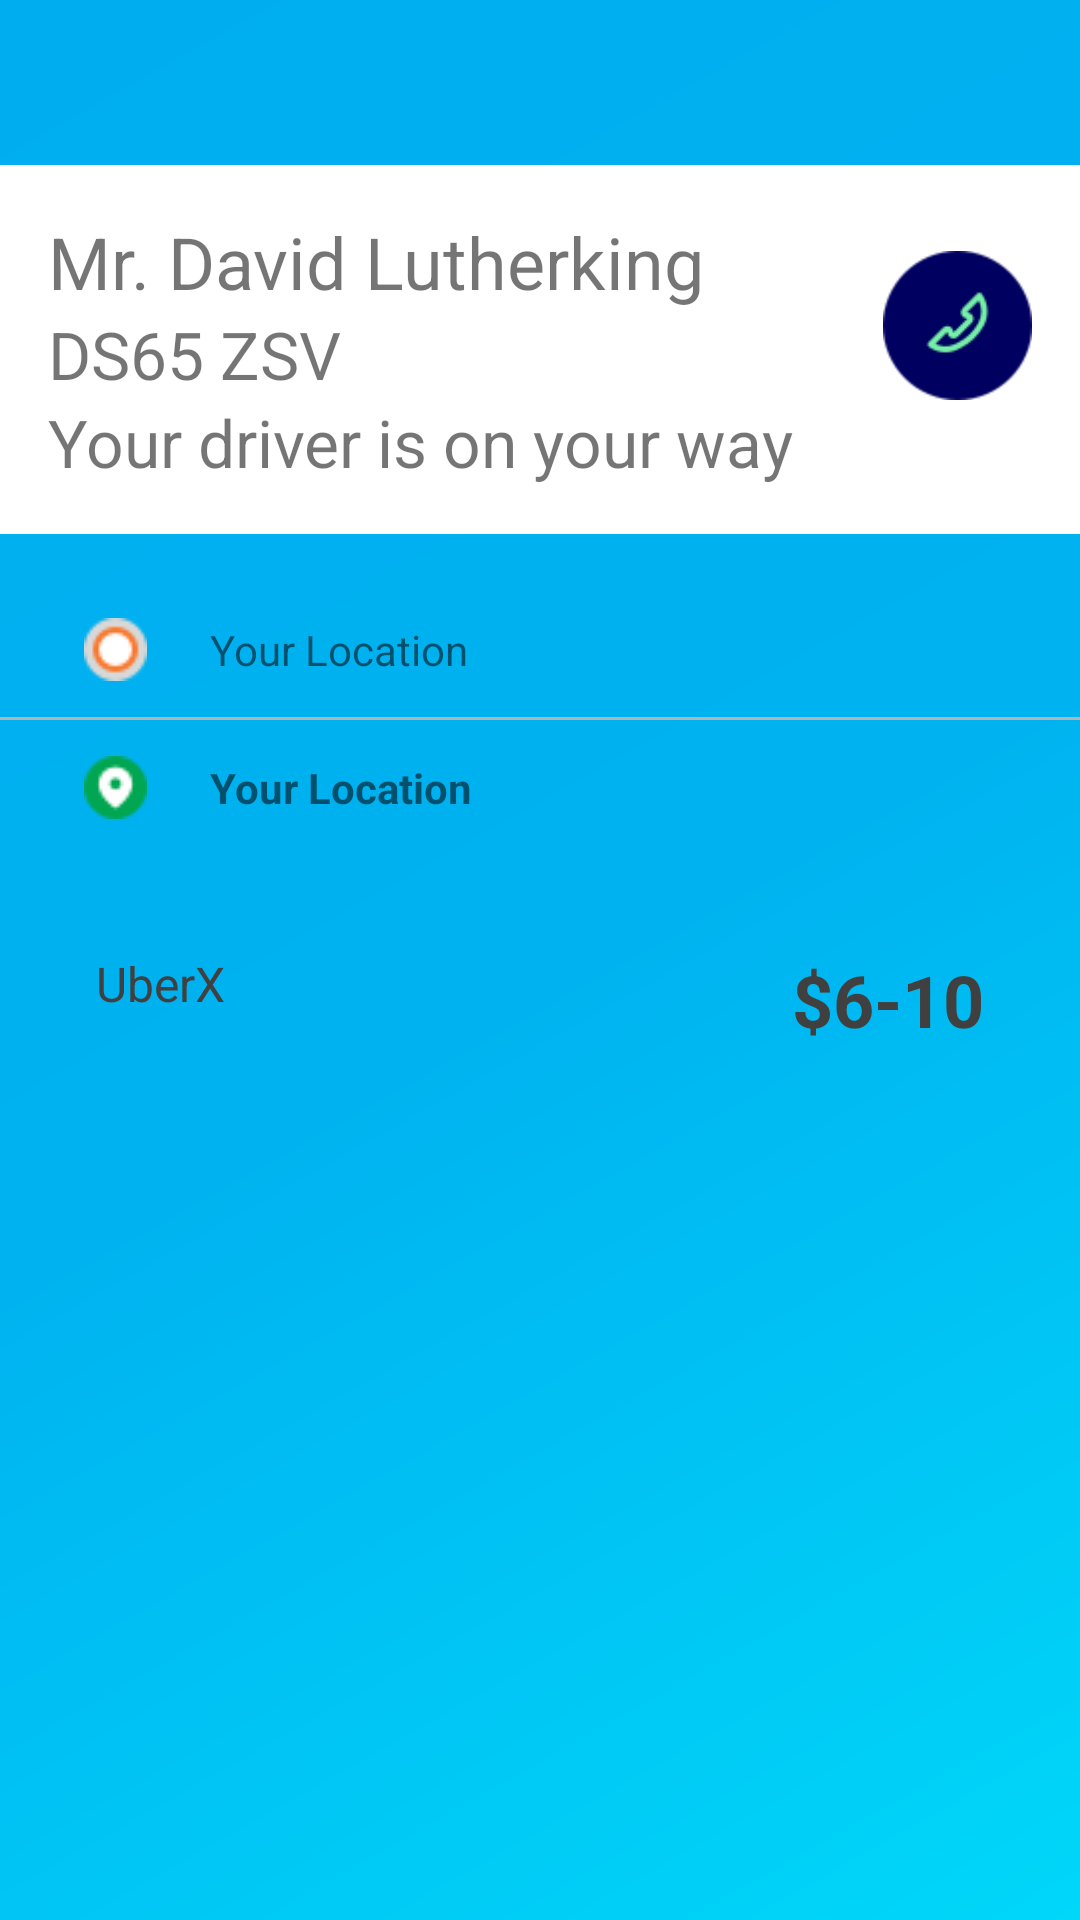

Screen size 1080w x 1920h. Icon name, then its box in pixels as [x1,y1,x2,y2]:
badge call: [883,251,1032,400]
departing: [84,618,147,681]
destination: [84,756,147,819]
